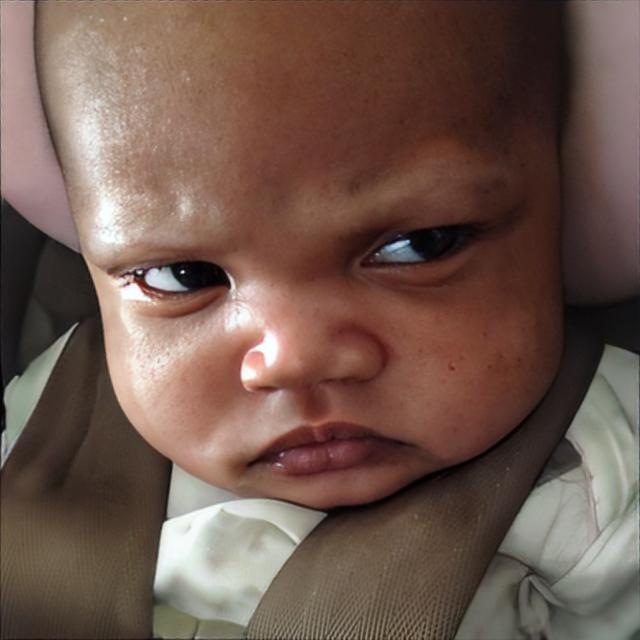anger: (92, 1, 540, 530)
